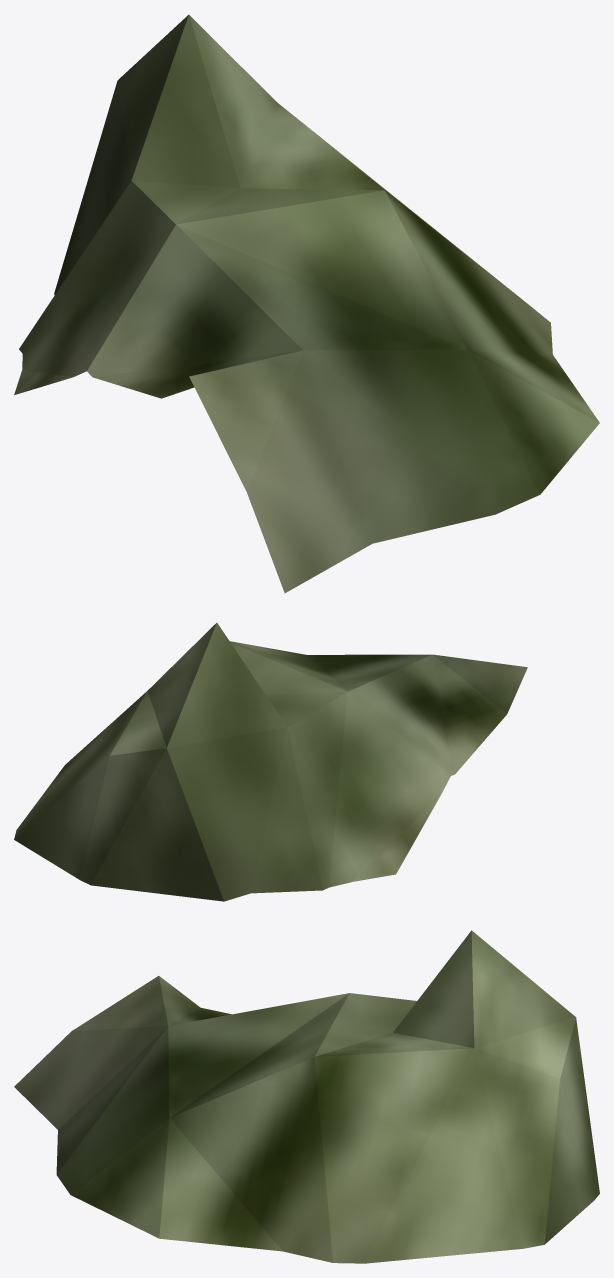
3 views of the same model, one above another, from view 1: azimuth 30°, elevation 25°; view 2: azimuth 150°, elevation 25°; view 3: azimuth 270°, elevation 25° (orthographic). The views are drawn at different scales.
Bounding box in the file's own units: 0.4075 × 0.2501 × 0.5707.
1 material, 1 textured.
